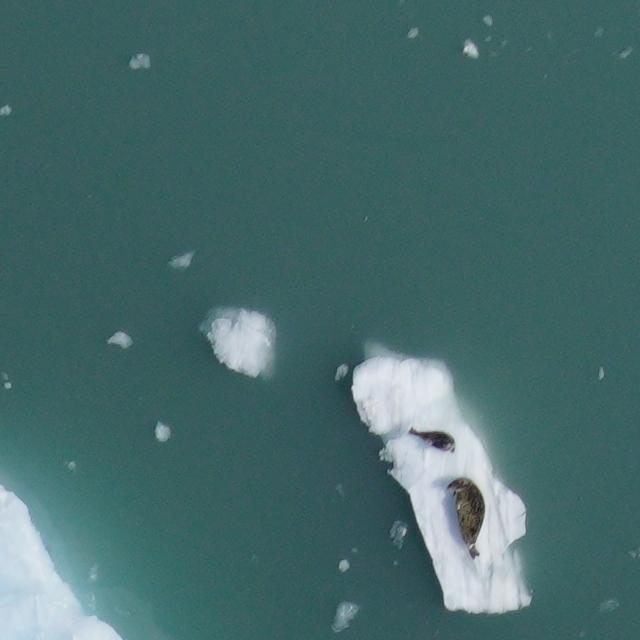seal: (444, 473, 487, 563), (405, 424, 460, 456)
